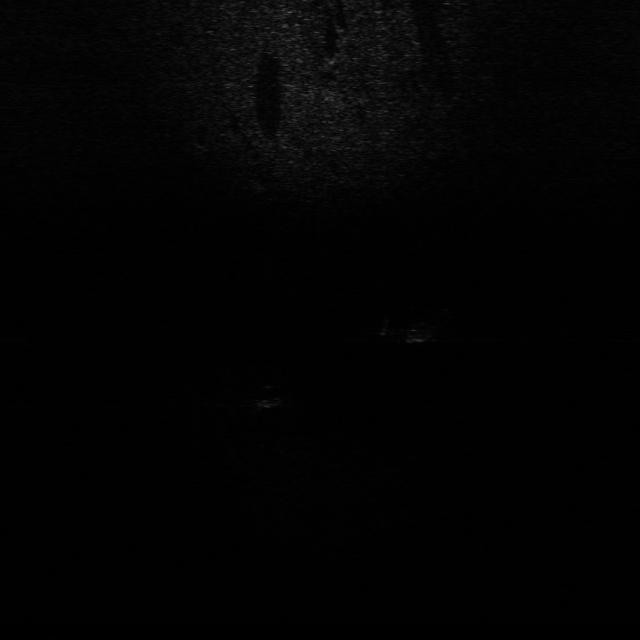ball: (241, 383, 287, 415)
human body: (370, 305, 454, 353)
